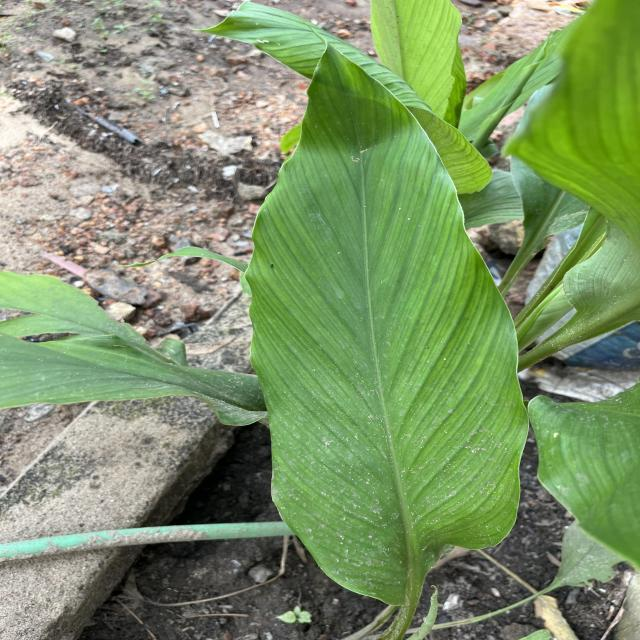Curcuma longa: (242, 29, 534, 617)
